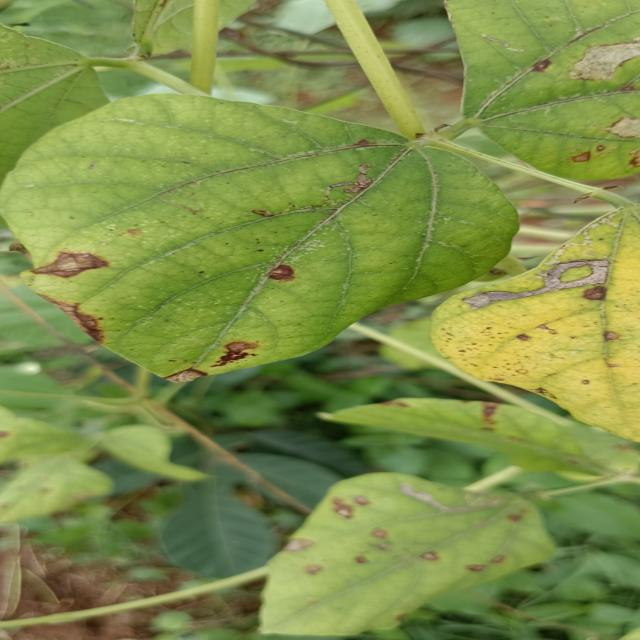Dolicos bean_cercospora leaf spot: (0, 93, 523, 377), (245, 474, 551, 640)
